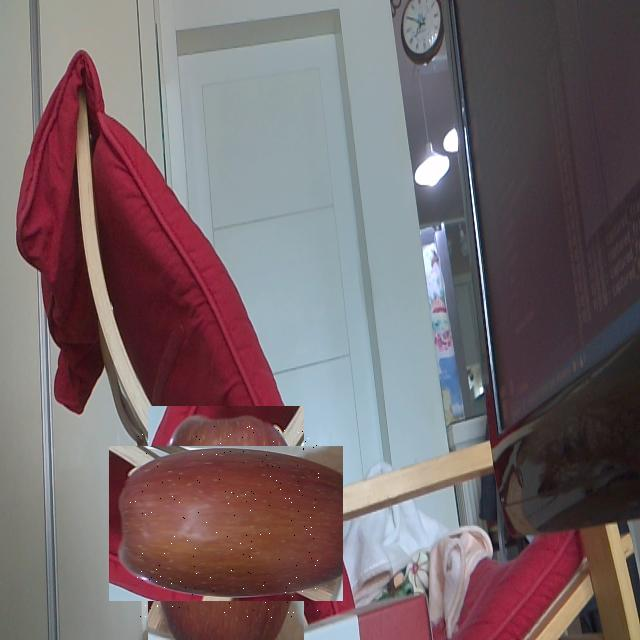apple: (129, 426, 323, 620)
